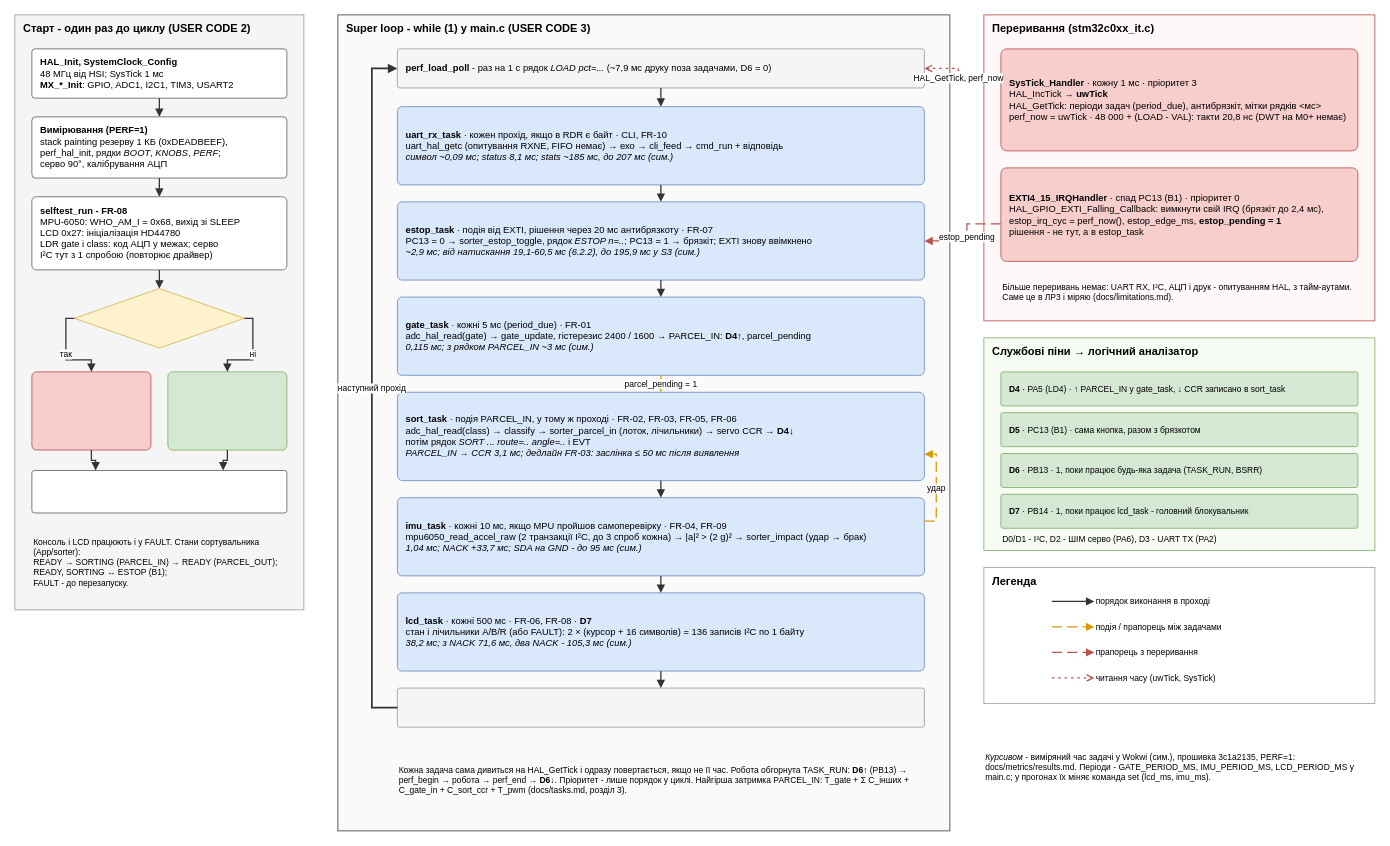
The diagram is 1390 pixels wide and 846 high, and some of its shapes have lost their labels. The shapes that lost their labels are listed below. From the top down, each one's centre as x and y in pixels, then its label:
point (159, 318): fail > 0 ?
point (91, 410): FAULT FAULT reason=... imu_task вимкнена, на LCD «FAULT:» і причина
point (227, 410): READY STATE state=READY на 221 мс (сим.), без MPU - 177 мс
point (159, 491): STACK, HEAP після старту; t_gate = t_imu = t_lcd = HAL_GetTick()
point (660, 707): ready_flush (EVT ready_* при старті) · STAT loop += perf_now() - t_loop
